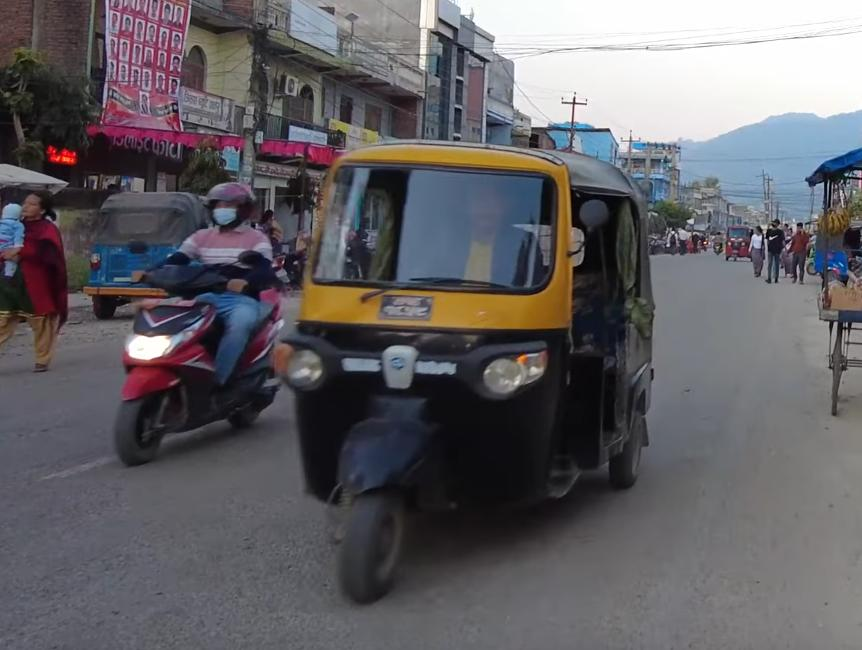auto_rickshaw: (273, 132, 659, 606)
